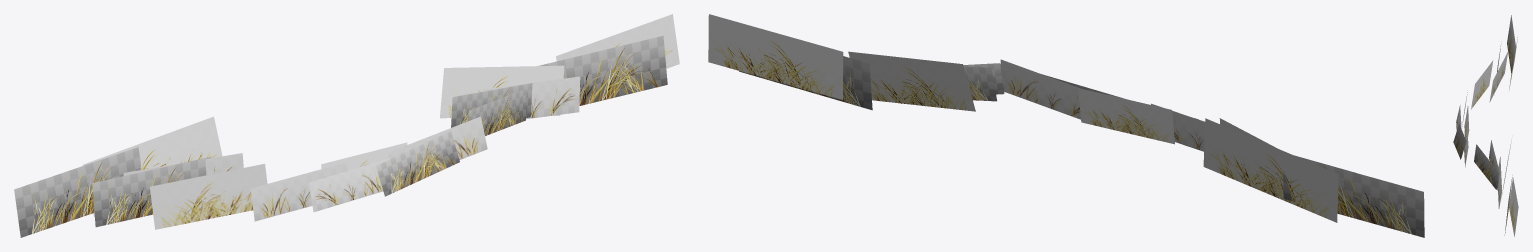
File: Grass_Triage.FBX
3 views of the same model, side by side, from view 1: azimuth 30°, elevation 25°; view 2: azimuth 150°, elevation 25°; view 3: azimuth 270°, elevation 25° (orthographic). The views are drawn at different scales.
Visible parts, largest first — view 1: GrassTriage; view 2: GrassTriage; view 3: GrassTriage.
Part boxes in pixels (x1,y1,x2,y2): GrassTriage: (14,14,679,237); GrassTriage: (708,14,1424,237); GrassTriage: (1453,15,1518,236).
Size of the model in its own units: 181 by 20.45 by 25.05.
